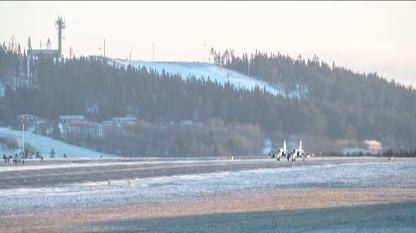JAS39: (278, 138, 320, 160), (262, 138, 290, 159)
